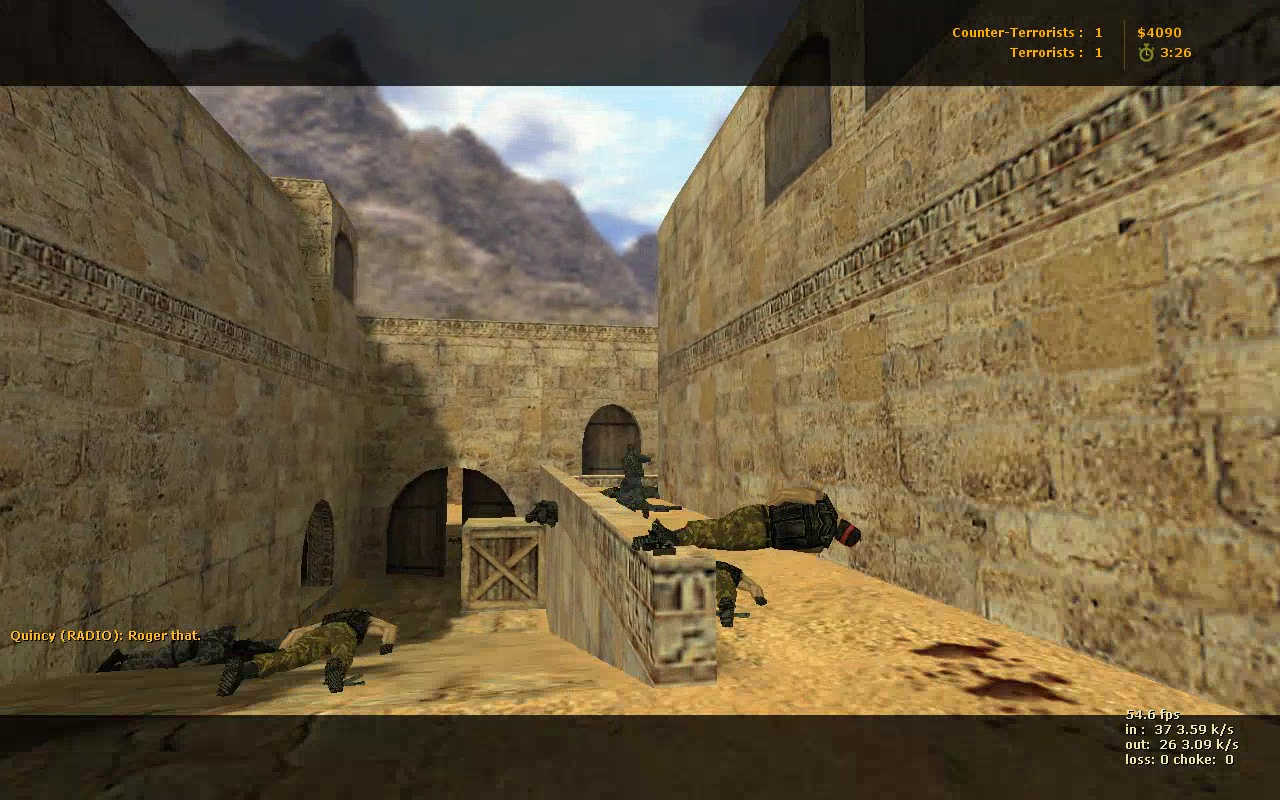ct: (620, 445, 653, 514)
dead: (220, 607, 397, 696), (635, 489, 859, 558), (97, 624, 247, 674), (687, 558, 767, 633), (608, 483, 671, 512)
